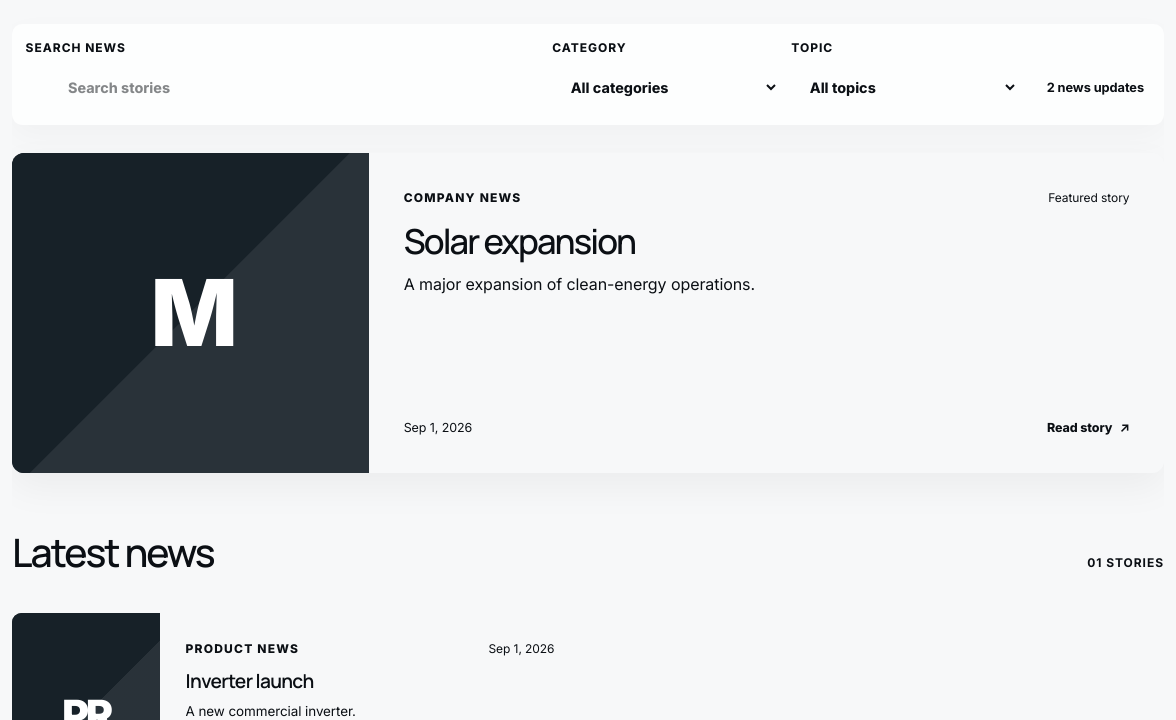
Scenario: public news experience › filters news instantly by search, category, and topic
Check: the heading "Solar expansion" is shown, box [404, 217, 635, 264]
Check: the heading "Inverter launch" is shown, box [186, 668, 314, 694]
Type "inverter" into the search field labelled "Search news".
click(283, 88); type("inverter")  # box [26, 64, 540, 112]
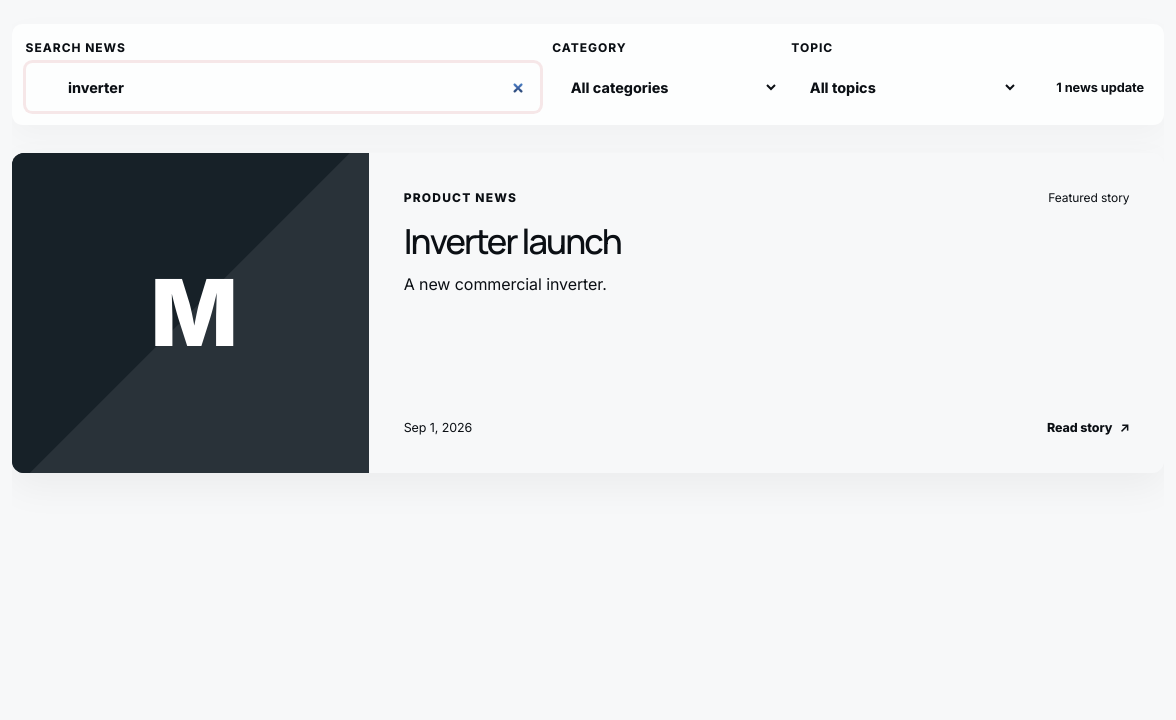
Check: the link "Solar expansion" is gone
Check: the heading "Inverter launch" is shown, box [404, 217, 621, 264]
Check: the text "1 news update" is shown, box [1056, 80, 1144, 95]
